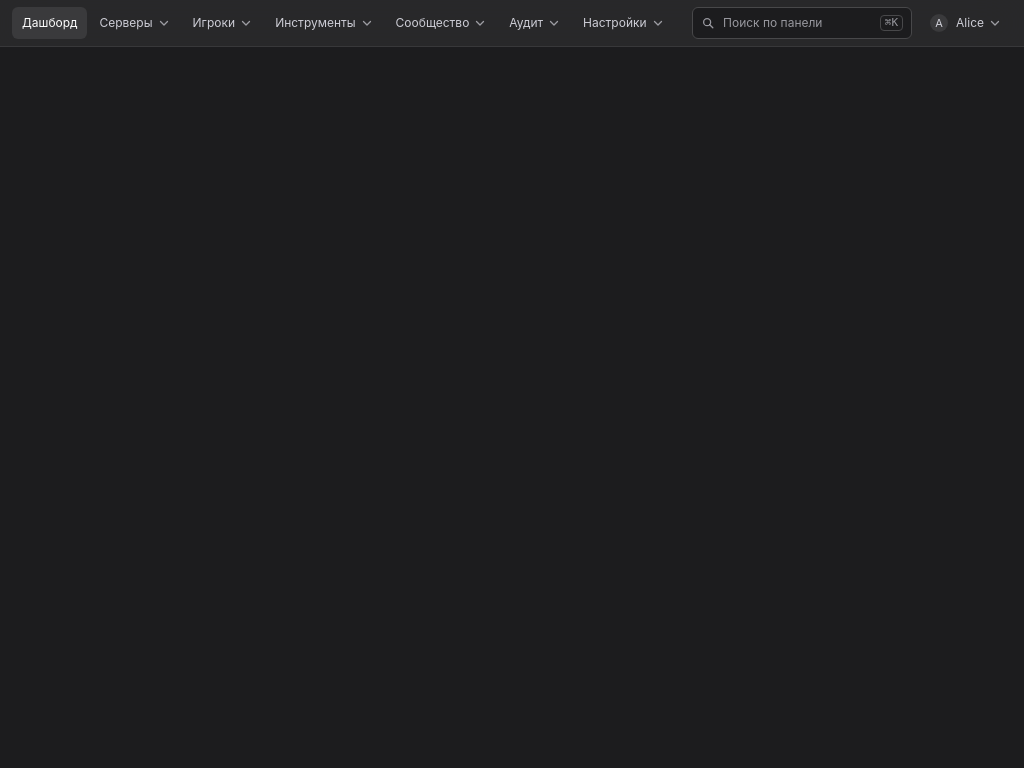
Test: TopNav › renders «Настройки» as a mega-menu with a column header per section
Click the button "Настройки".
click(624, 23)  # box left=573, top=7, right=675, bottom=39
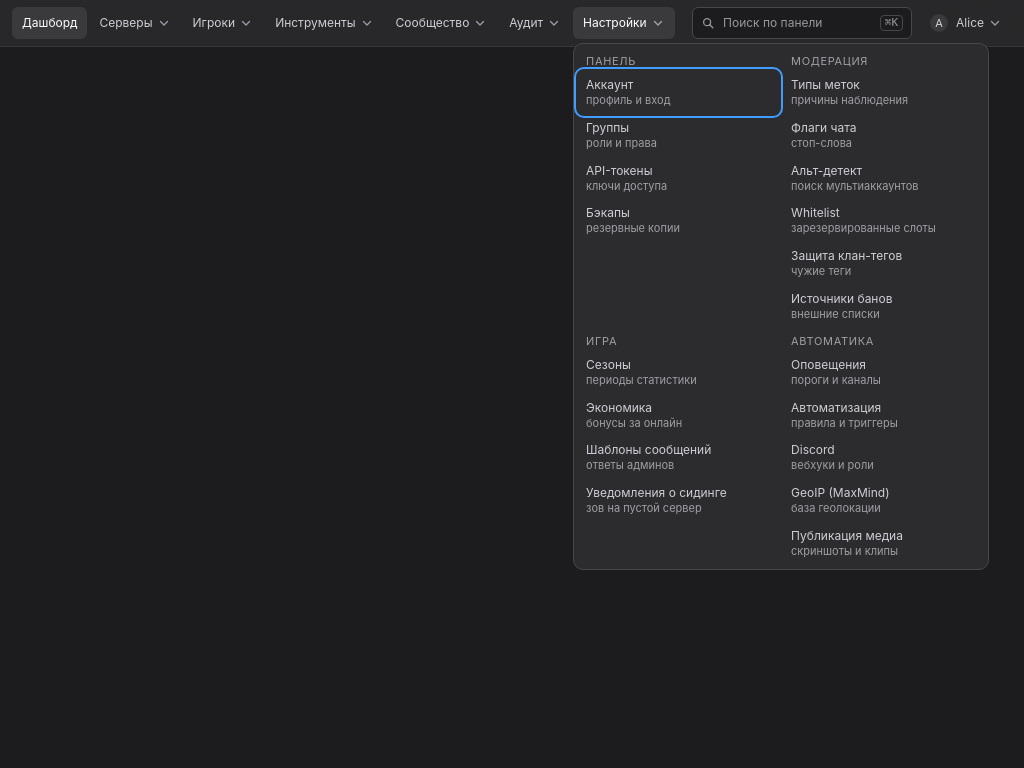
Now the text "Панель" is shown, box left=586, top=54, right=636, bottom=68
Now the text "Модерация" is shown, box left=791, top=54, right=868, bottom=68
Now the text "Игра" is shown, box left=586, top=334, right=617, bottom=348
